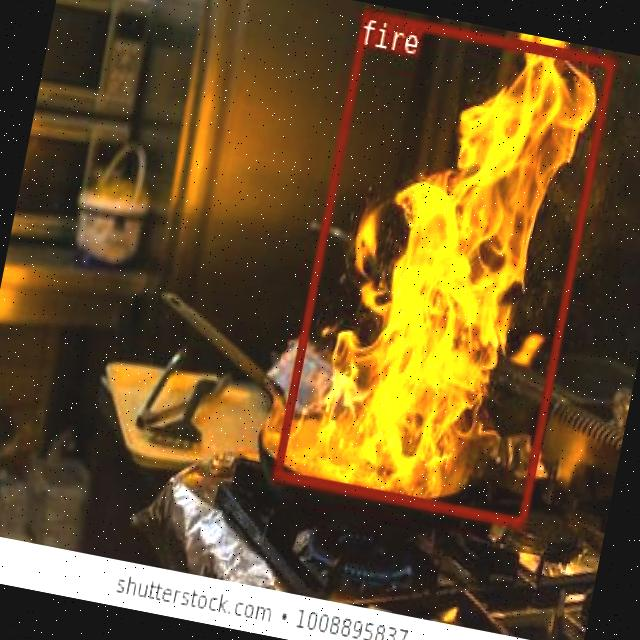fire: (271, 8, 615, 526)
